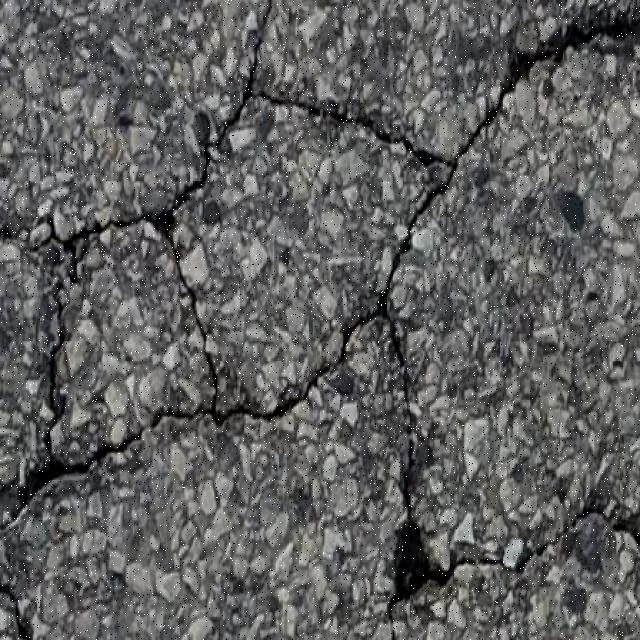Crack: (0, 83, 436, 441), (342, 18, 639, 388), (386, 419, 490, 640), (1, 425, 128, 524), (522, 511, 640, 562), (0, 582, 25, 634), (249, 12, 267, 81), (51, 351, 56, 396), (491, 562, 509, 574)
